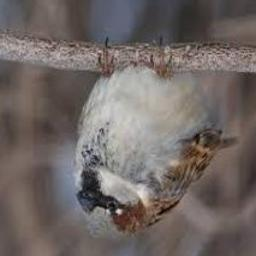Sparrow: (75, 37, 242, 240)
